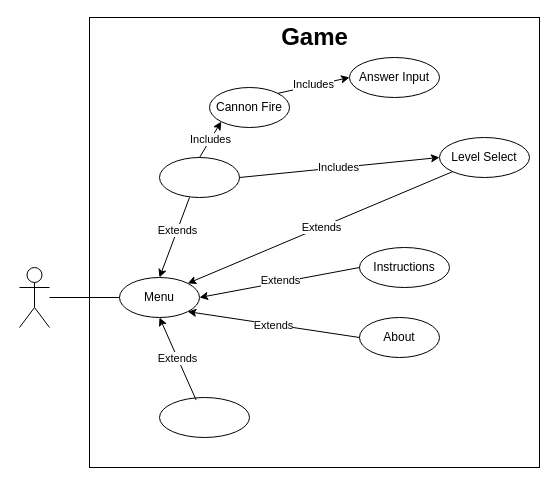
Some shapes in this 557 by 485 pixel diagram are drawn without their labels. Here are the shapes that lost their labels. From the top down, the centre of each, then its label:
(199,177): Play Level
(34,297): Player
(204,417): View High Scores
